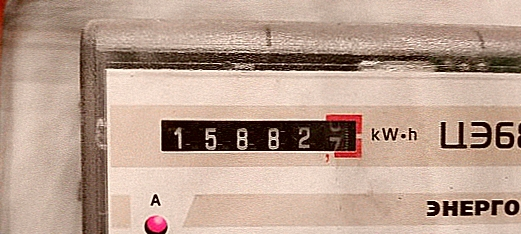1: (171, 124, 183, 150)
2: (295, 124, 311, 149)
5: (202, 125, 216, 151)
7: (326, 133, 341, 151)
8: (233, 125, 249, 150), (265, 125, 280, 150)
screen: (150, 107, 369, 166)
